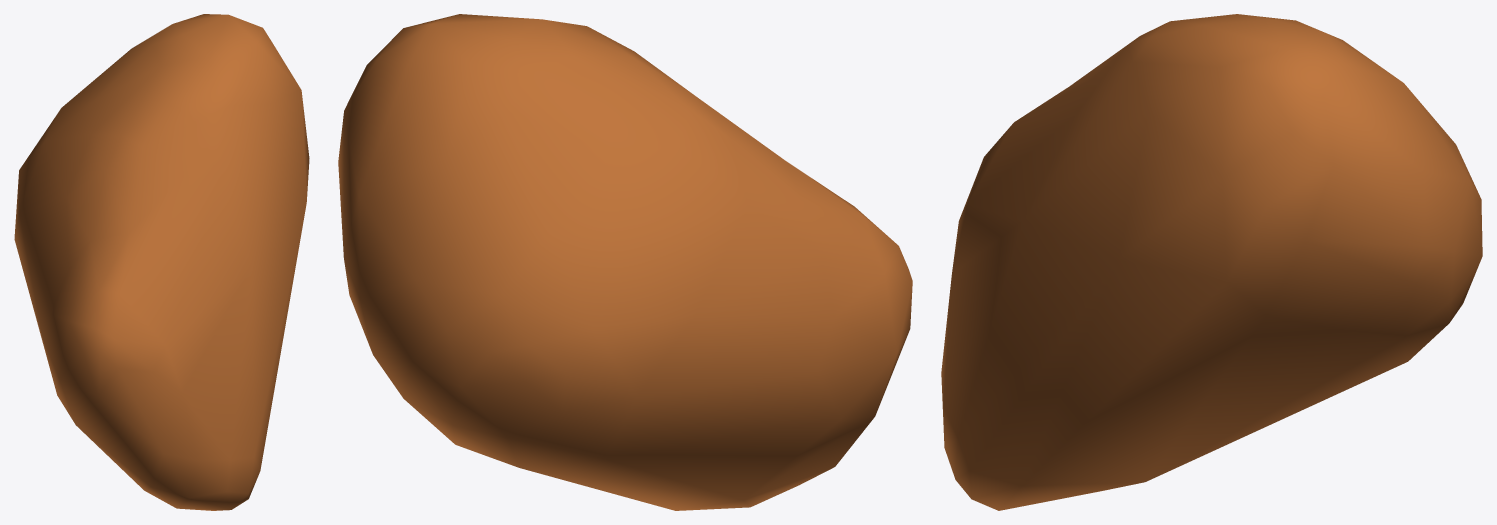
The model's file is Medial_geniculate_body_right.glb.
3 views of the same model, side by side, from view 1: azimuth 30°, elevation 25°; view 2: azimuth 150°, elevation 25°; view 3: azimuth 270°, elevation 25° (orthographic). The views are drawn at different scales.
Visible parts, largest first — view 1: Medial_geniculate_body.r_grp1.069; view 2: Medial_geniculate_body.r_grp1.069; view 3: Medial_geniculate_body.r_grp1.069.
Boxes of the visible parts, <box> form: Medial_geniculate_body.r_grp1.069: <box>14,14,309,510</box>; Medial_geniculate_body.r_grp1.069: <box>338,14,912,510</box>; Medial_geniculate_body.r_grp1.069: <box>941,14,1482,510</box>.
Bounding box in the file's own units: 0.00633 × 0.00744 × 0.00686.
